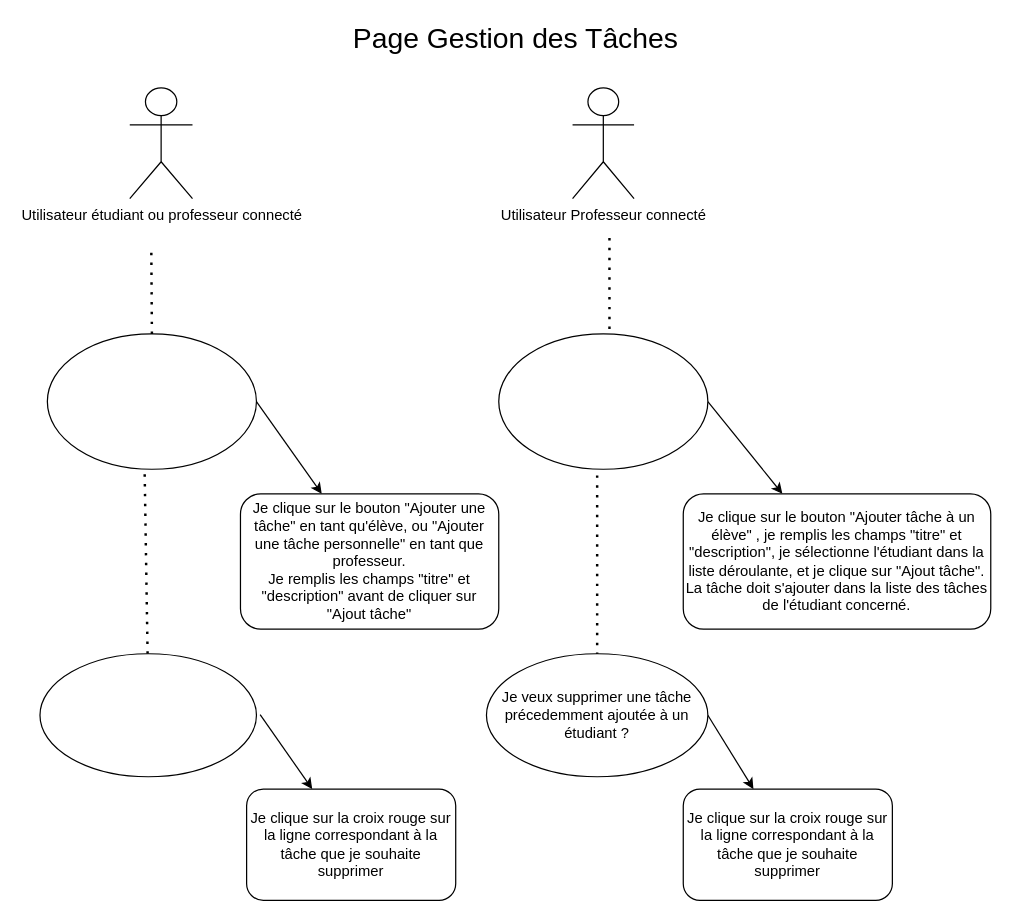
Some shapes in this 1012 by 921 pixel diagram are drawn without their labels. The centre of each missing label's shape, as x and y in pixels:
"Je veux ajouter une tâche personnelle à ma liste de tâches à faire ?" belongs at (151,401).
"Je veux ajouter une tâche à un étudiant ?" belongs at (603,401).
"Je veux supprimer une tâche personnelle de ma liste de tâches à faire ?" belongs at (147,715).
